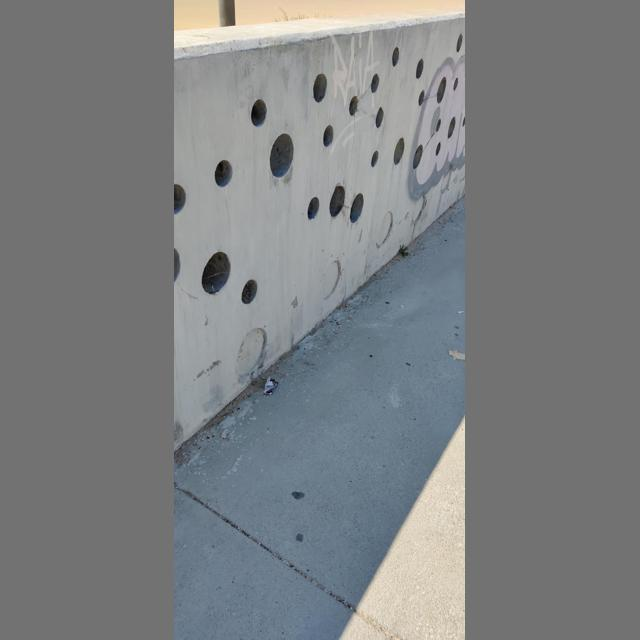litter: (263, 376, 278, 393)
